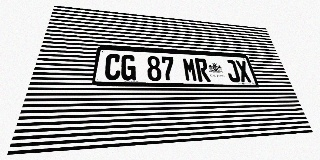7: (160, 56, 176, 81)
8: (147, 56, 162, 81)
C: (104, 54, 121, 80)
G: (120, 54, 136, 81)
J: (224, 60, 241, 82)
M: (182, 57, 198, 82)
R: (194, 58, 211, 82)
X: (235, 60, 252, 82)
